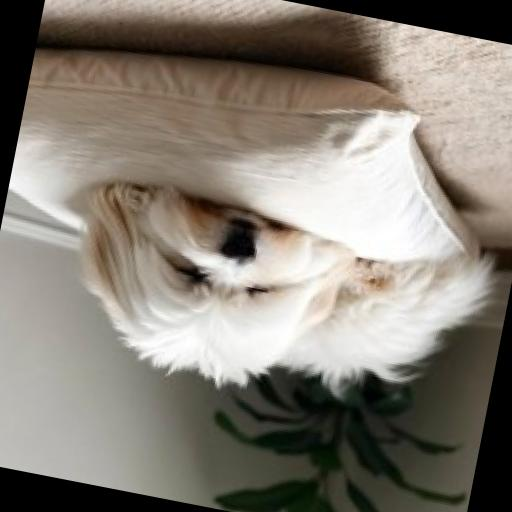dog: (47, 156, 512, 442)
